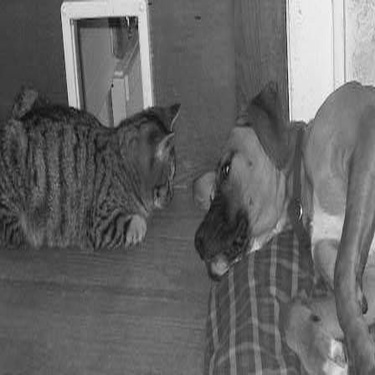cat: (3, 85, 182, 251)
dog: (190, 75, 370, 370)
